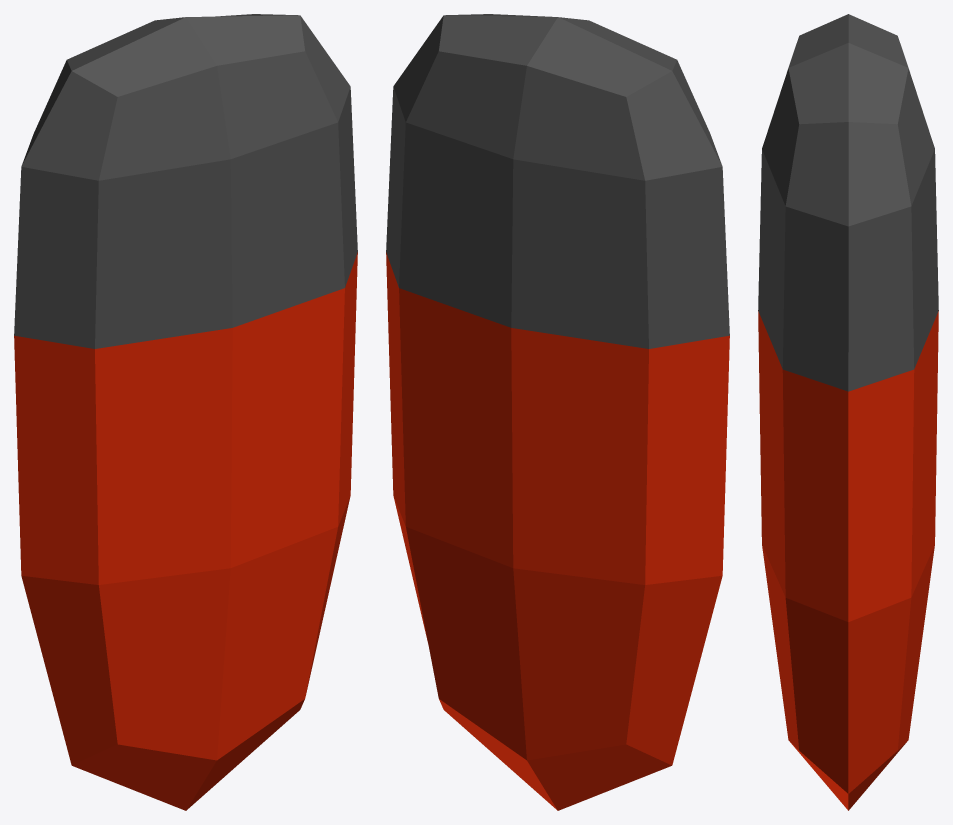
File: mechero.fbx
3 renders of one model, left to right at view 1: azimuth 30°, elevation 25°; view 2: azimuth 150°, elevation 25°; view 3: azimuth 270°, elevation 25°, orthographic. The views are drawn at different scales.
Parts seen in each view (by area): view 1: Cube.001; view 2: Cube.001; view 3: Cube.001.
Part boxes in pixels (x1=…): Cube.001: x1=14, y1=14, x2=357, y2=810; Cube.001: x1=386, y1=14, x2=729, y2=810; Cube.001: x1=758, y1=14, x2=938, y2=810.
Bounding box in the file's own units: 26.63 × 58.75 × 12.52.
